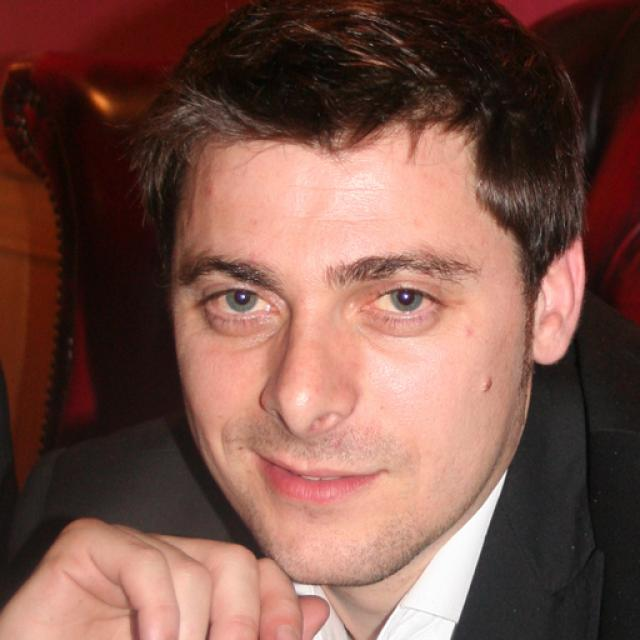Acne: (478, 374, 495, 397)
Wrinkle: (290, 179, 387, 198), (315, 212, 385, 225)
